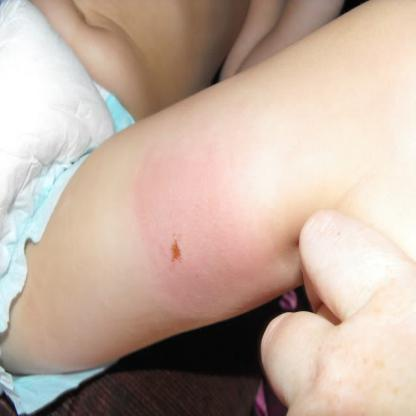Fire ant: (163, 230, 185, 263)
